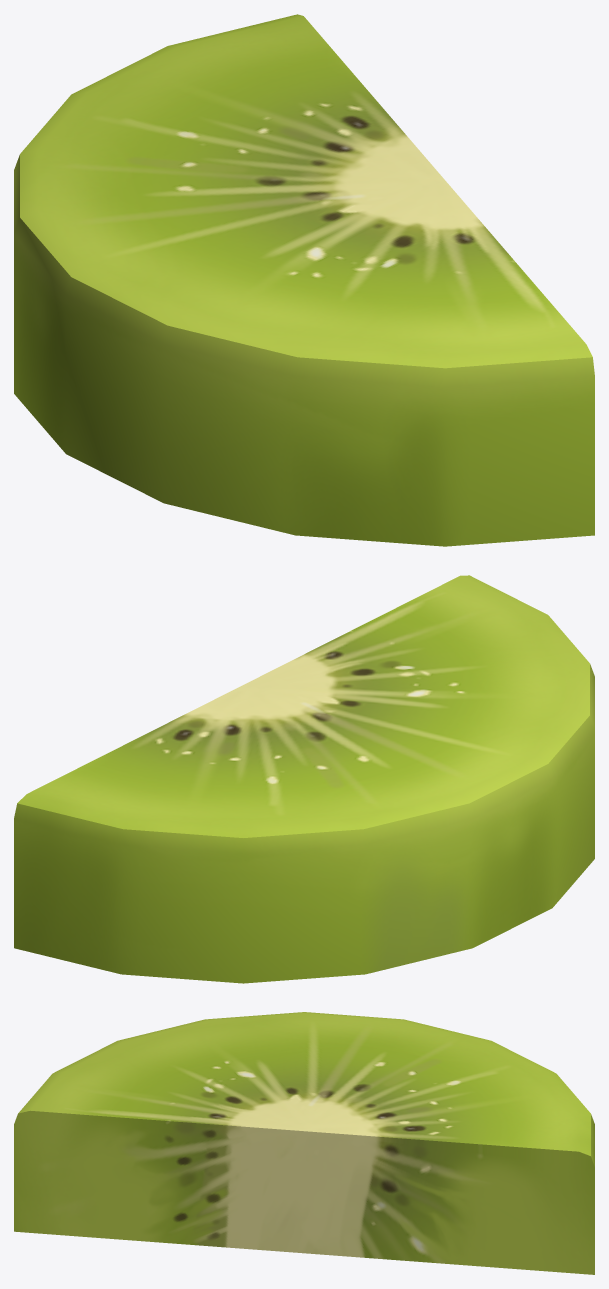
File: kiwi_h.fbx
3 renders of one model, top to bottom at view 1: azimuth 30°, elevation 25°; view 2: azimuth 150°, elevation 25°; view 3: azimuth 270°, elevation 25°, orthographic. The views are drawn at different scales.
Visible parts, largest first — view 1: Capsule003; view 2: Capsule003; view 3: Capsule003.
Boxes of the visible parts, <box> form: Capsule003: <box>14,14,594,546</box>; Capsule003: <box>14,575,594,983</box>; Capsule003: <box>14,1012,594,1274</box>.
Bounding box in the file's own units: 21.16 × 8.24 × 35.51.
1 material, 1 textured.
